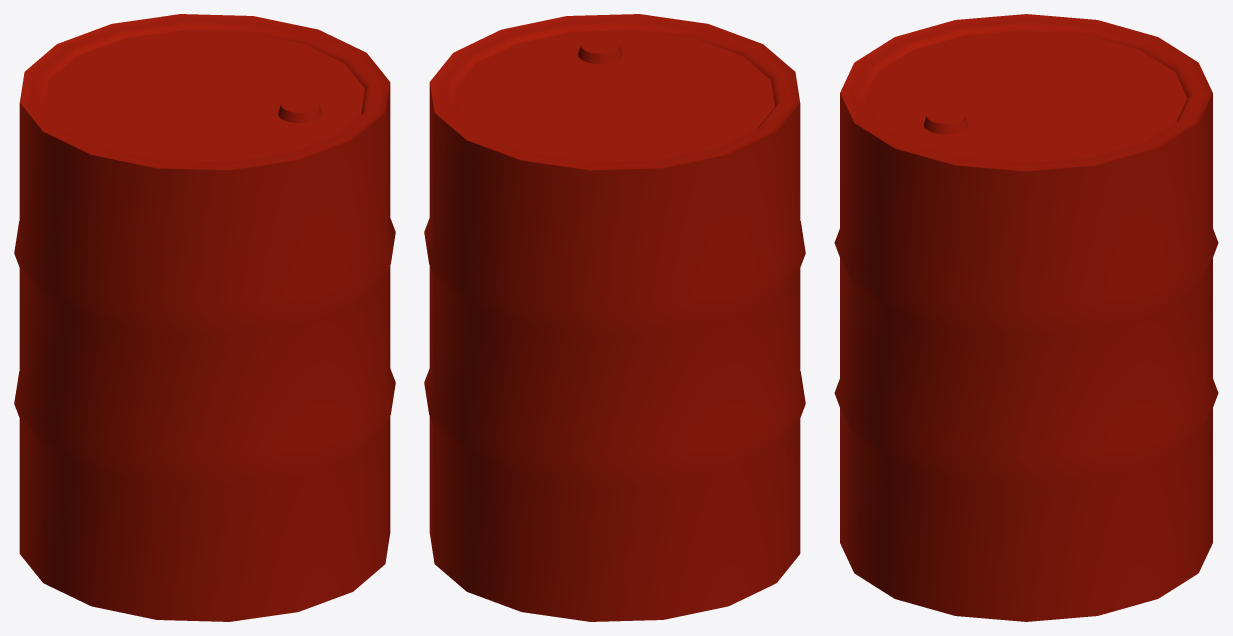
The model's file is MOD_OilBarrel.fbx.
3 renders of one model, left to right at view 1: azimuth 30°, elevation 25°; view 2: azimuth 150°, elevation 25°; view 3: azimuth 270°, elevation 25°, orthographic.
Visible parts, largest first — view 1: OilBarrel; view 2: OilBarrel; view 3: OilBarrel.
Boxes of the visible parts, box(x1,y1,x2,y2) form: OilBarrel: box(14, 14, 395, 621); OilBarrel: box(424, 14, 805, 621); OilBarrel: box(834, 14, 1218, 621).
Bounding box in the file's own units: 124 × 161 × 124.
